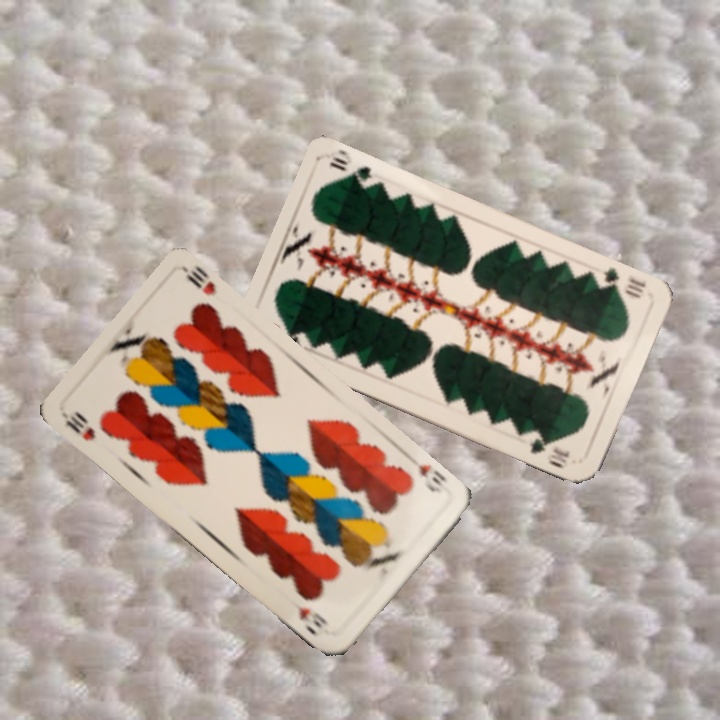G10: (591, 263, 649, 301)
H10: (405, 452, 448, 496), (61, 407, 99, 443)
